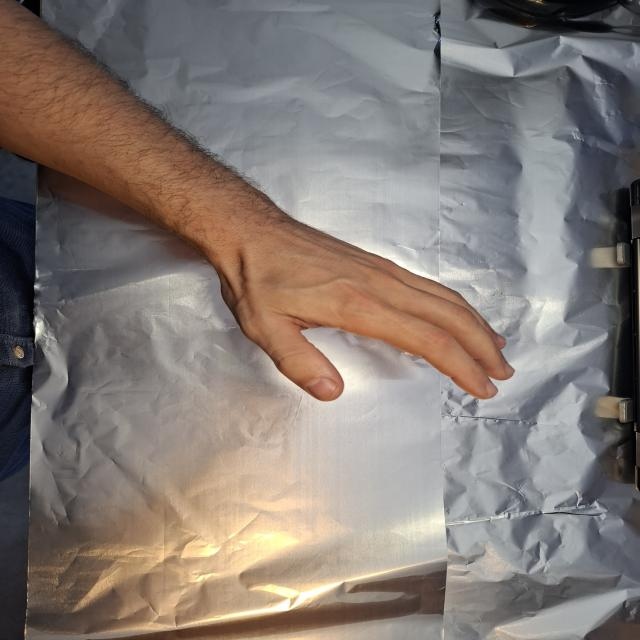glove_off: (210, 210, 520, 403)
